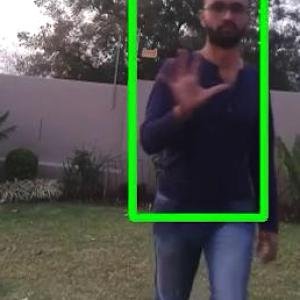follow_hand: (152, 39, 234, 118)
